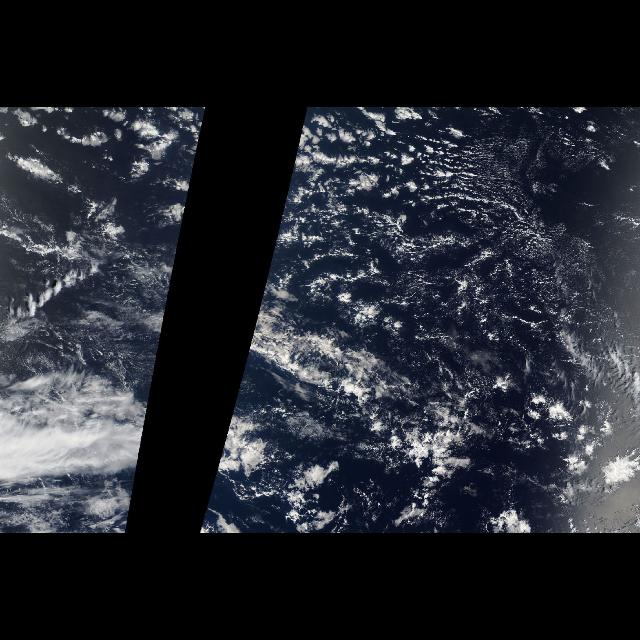Fish: (234, 309, 416, 405)
Gravel: (286, 119, 616, 361)
Sugar: (302, 125, 620, 385)
